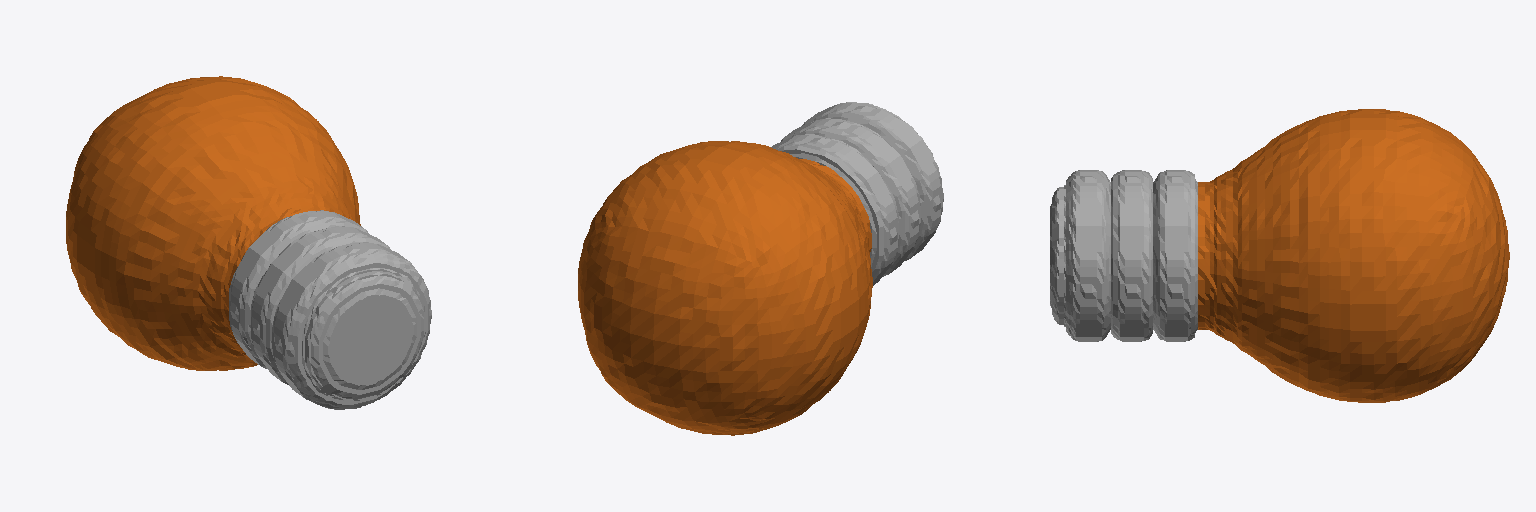
Rendered from bulb.obj.
The picture shows the model from 3 angles: view 1: azimuth 30°, elevation 25°; view 2: azimuth 150°, elevation 25°; view 3: azimuth 270°, elevation 25°; orthographic projection.
Size of the model in its own units: 124 by 124 by 196.